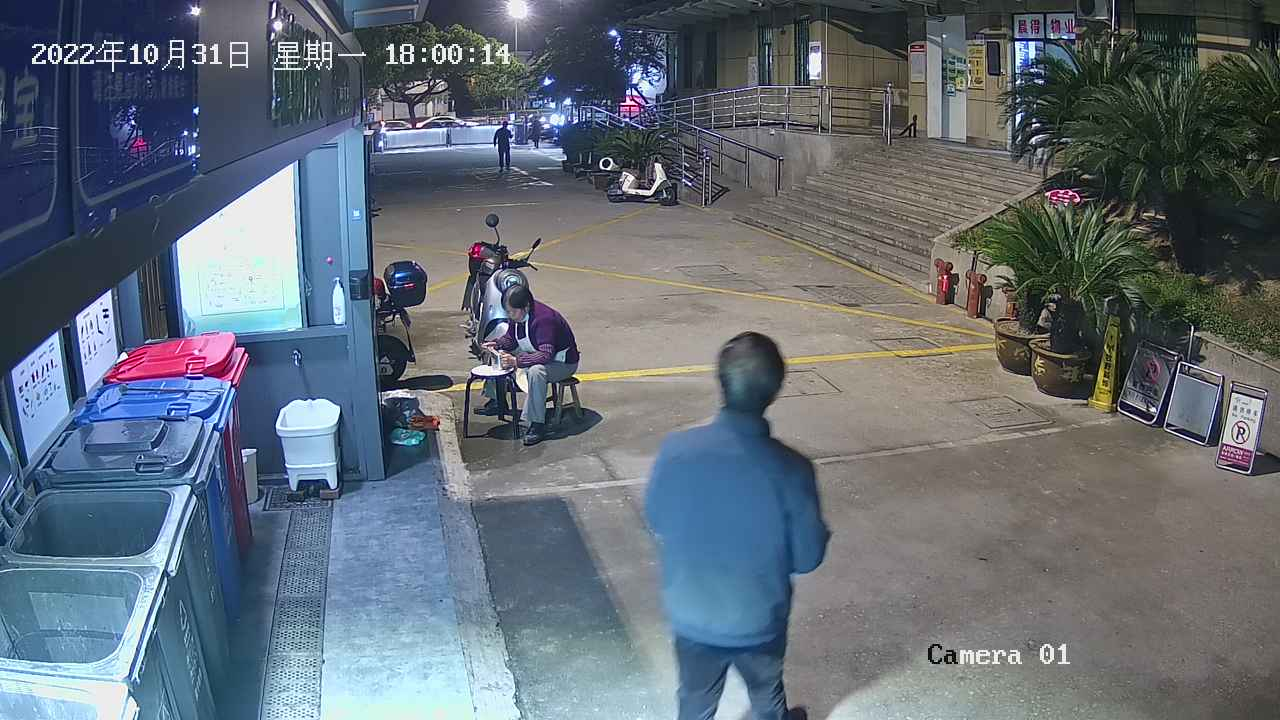person: (639, 330, 832, 720), (481, 283, 582, 446)
